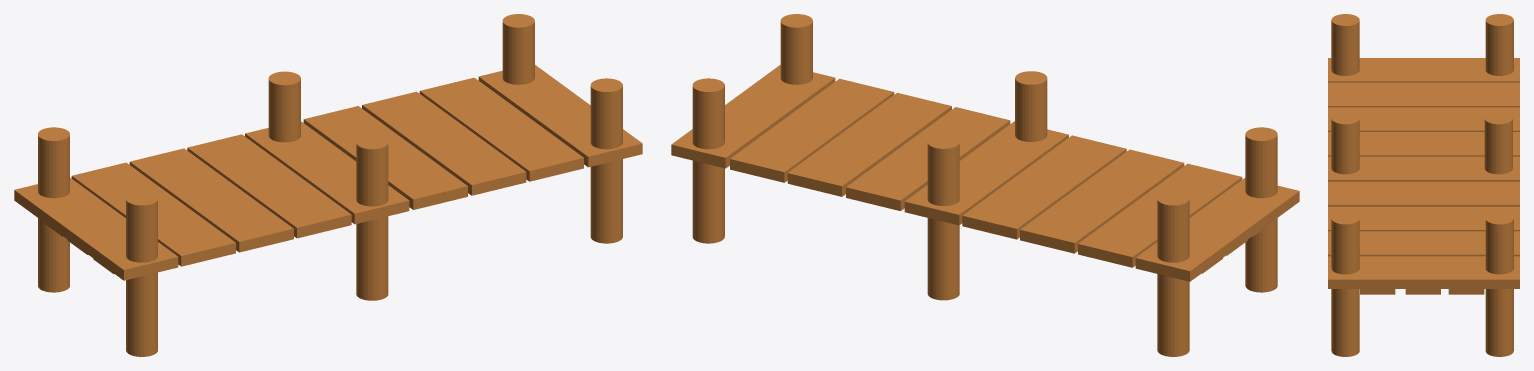
The model's file is Pier(Jack).glb.
3 renders of one model, left to right at view 1: azimuth 30°, elevation 25°; view 2: azimuth 150°, elevation 25°; view 3: azimuth 270°, elevation 25°, orthographic. The views are drawn at different scales.
Visible parts, largest first — view 1: Cube; view 2: Cube; view 3: Cube.
Boxes of the visible parts, box(x1,y1,x2,y2) form: Cube: box(14, 14, 642, 356); Cube: box(671, 14, 1299, 356); Cube: box(1328, 14, 1519, 356).
Size of the model in its own units: 19.01 by 5.3 by 6.96.
